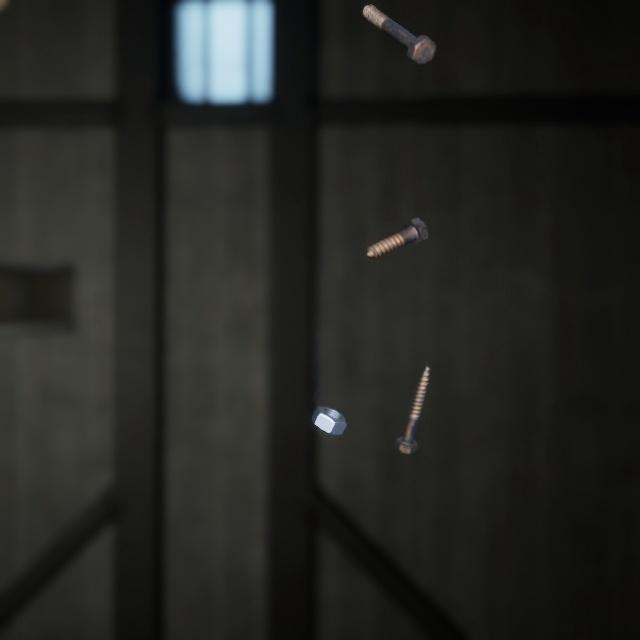bolt: (357, 0, 441, 62), (390, 342, 434, 440), (362, 197, 432, 248)
nut: (309, 381, 353, 419)
